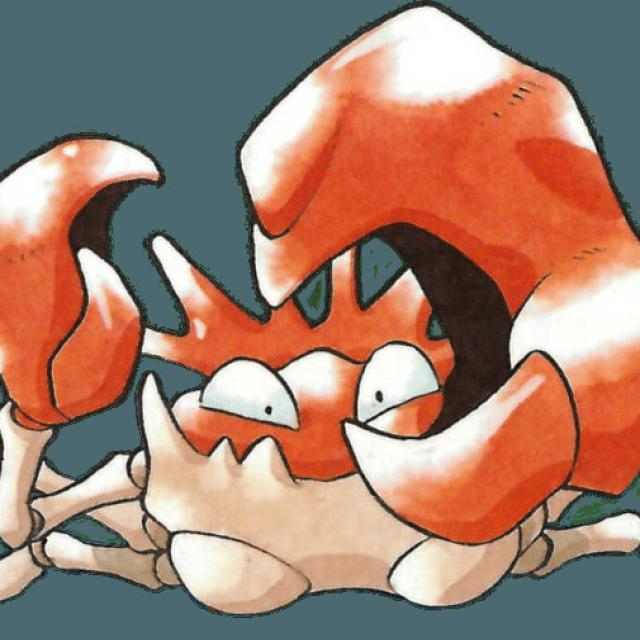Kingler: (0, 9, 640, 608)
